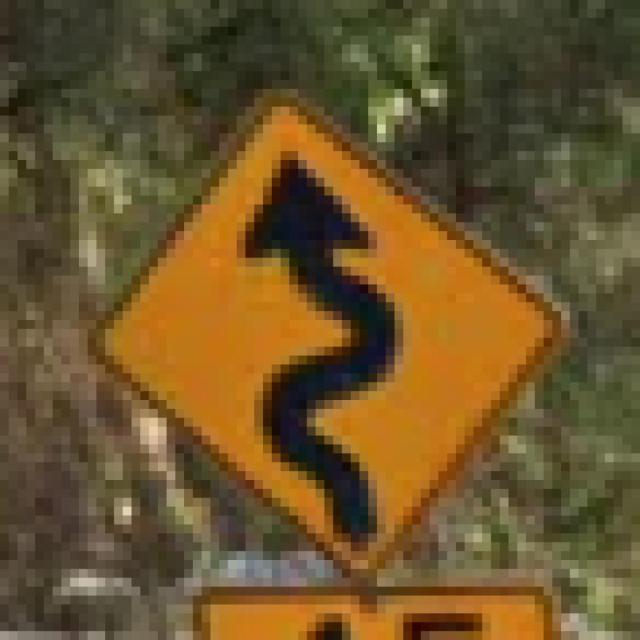Banyak Tikungan Pertama Kiri: (61, 62, 570, 587)
